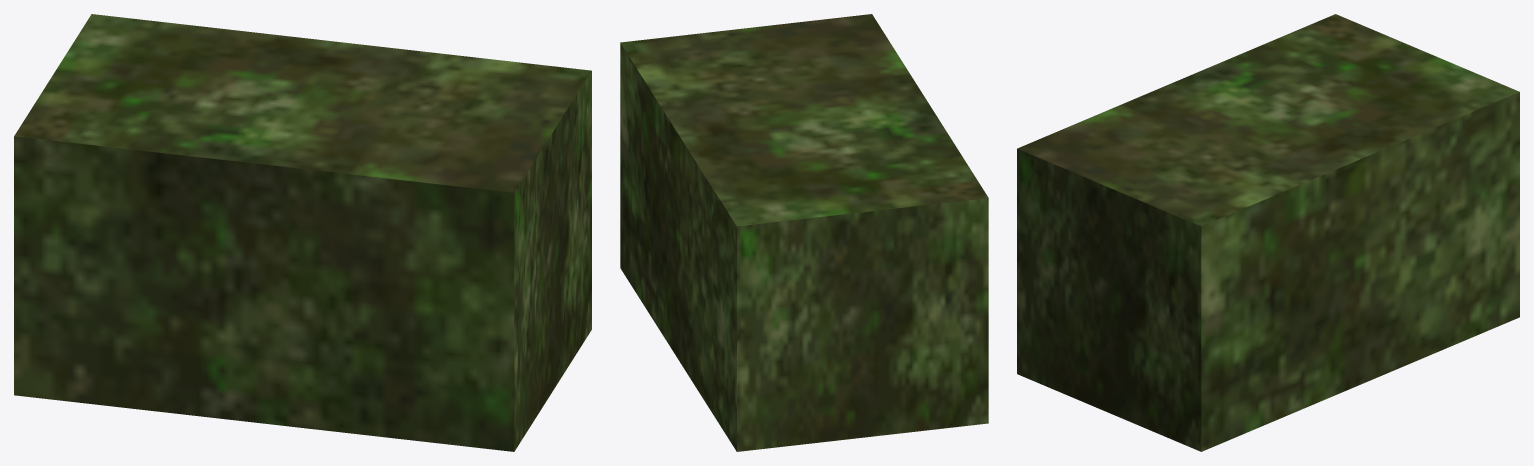
Rendered from OVERHILL_A_01_STONE_BLOCK_45.fbx.
3 renders of one model, left to right at view 1: azimuth 30°, elevation 25°; view 2: azimuth 150°, elevation 25°; view 3: azimuth 270°, elevation 25°, orthographic. The views are drawn at different scales.
Visible parts, largest first — view 1: OVERHILL_A_01_STONE_BLOCK_45; view 2: OVERHILL_A_01_STONE_BLOCK_45; view 3: OVERHILL_A_01_STONE_BLOCK_45.
Boxes of the visible parts, <box> form: OVERHILL_A_01_STONE_BLOCK_45: <box>14,14,591,451</box>; OVERHILL_A_01_STONE_BLOCK_45: <box>620,14,988,451</box>; OVERHILL_A_01_STONE_BLOCK_45: <box>1017,14,1519,451</box>.
Bounding box in the file's own units: 14525 × 7183 × 14525.
Materials: 1 (1 with a texture image).
